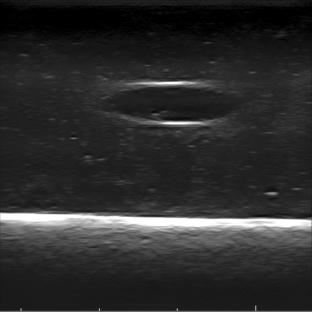vessel: (105, 81, 243, 126)
